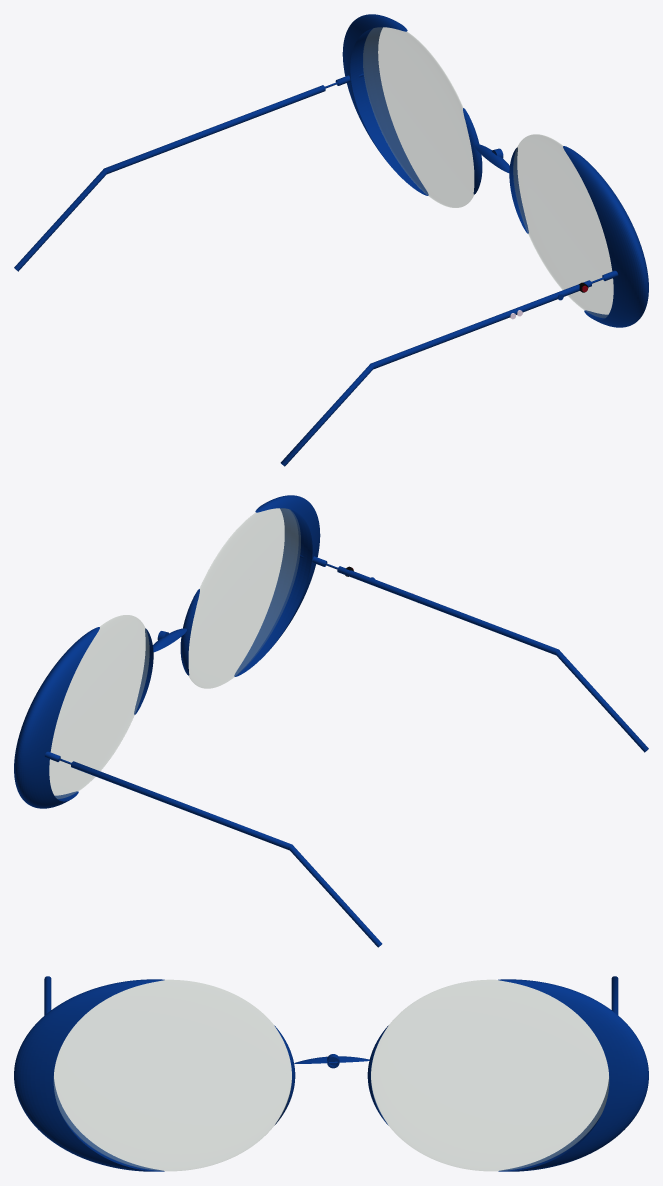
File: blauw2.glb
3 renders of one model, top to bottom at view 1: azimuth 30°, elevation 25°; view 2: azimuth 150°, elevation 25°; view 3: azimuth 270°, elevation 25°, orthographic. The views are drawn at different scales.
Parts seen in each view (by area): view 1: Sphere.016, Sphere.015, Sphere.014, Sphere.011, Cylinder.012, Cylinder.009; view 2: Sphere.015, Sphere.016, Sphere.011, Sphere.014, Cylinder.009, Cylinder.012; view 3: Sphere.016, Sphere.015, Sphere.011, Sphere.014, Sphere.007.
Part boxes in pixels (<box>): Sphere.016: <box>363,27,473,207</box>; Sphere.015: <box>513,134,613,317</box>; Sphere.014: <box>509,146,648,327</box>; Sphere.011: <box>342,14,482,195</box>; Cylinder.012: <box>14,73,363,271</box>; Cylinder.009: <box>280,270,618,466</box>; Sphere.015: <box>189,508,300,688</box>; Sphere.016: <box>49,615,149,798</box>; Sphere.011: <box>14,627,153,808</box>; Sphere.014: <box>180,495,320,676</box>; Cylinder.009: <box>299,555,648,752</box>; Cylinder.012: <box>45,751,382,947</box>; Sphere.016: <box>371,980,608,1170</box>; Sphere.015: <box>54,980,291,1170</box>; Sphere.011: <box>367,979,648,1171</box>; Sphere.014: <box>14,979,295,1171</box>; Sphere.007: <box>294,1056,369,1063</box>.
Bounding box in the file's own units: 3.96 × 2.05 × 5.59.
